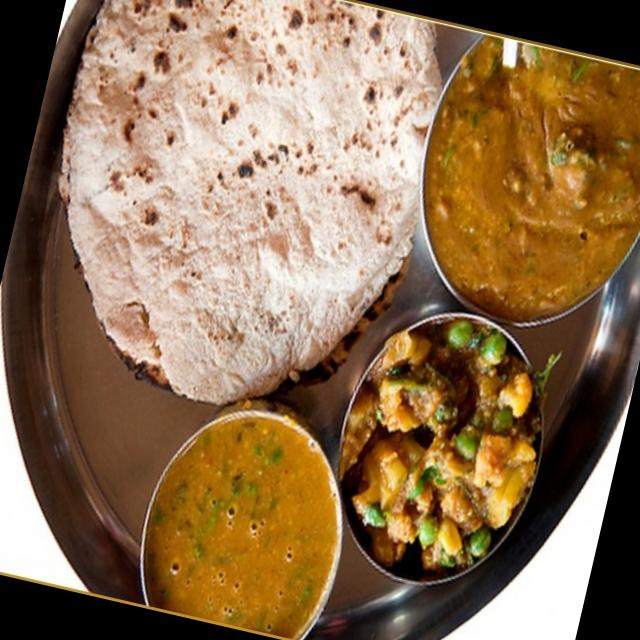roti: (66, 0, 449, 391)
